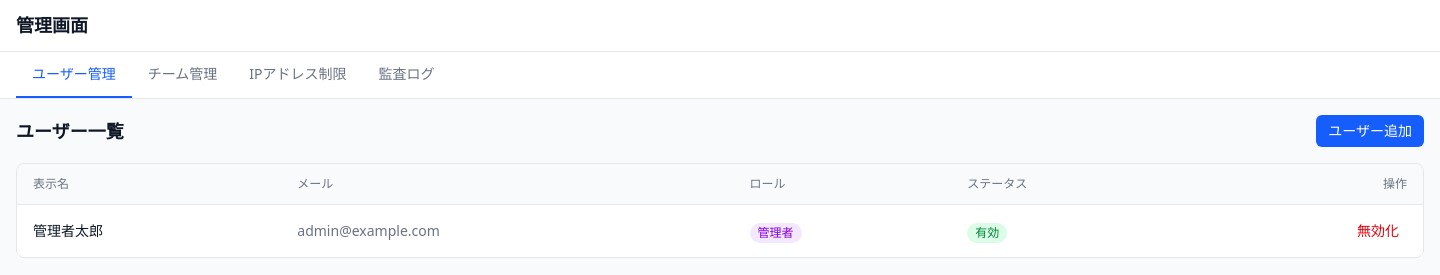
Test: AdminPage › switches to team management tab
Click the tab "チーム管理" at x=182, y=75, box [132,52,233,98]
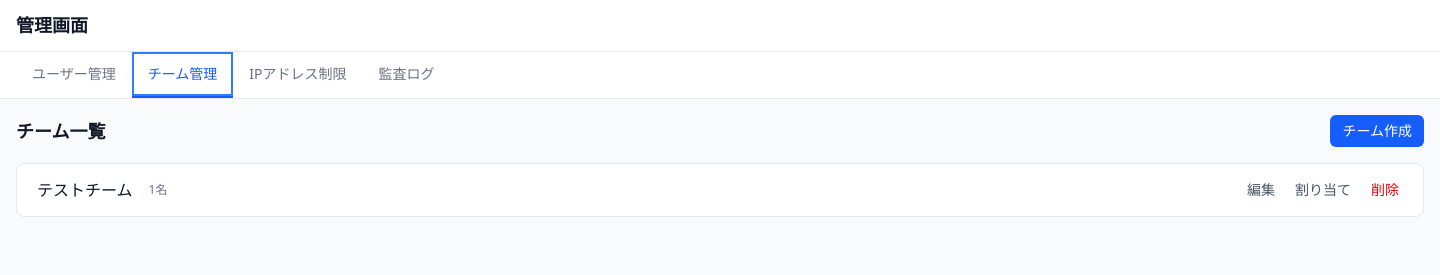
Now the heading "チーム一覧" is shown, box [16,117,106,145]
